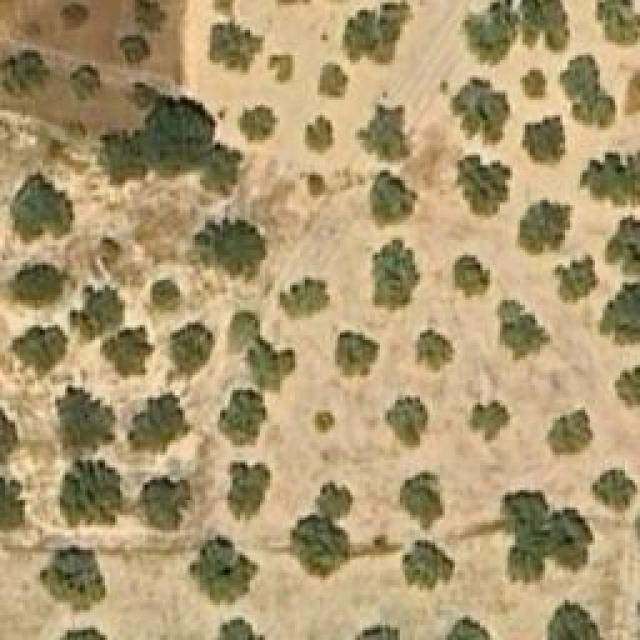Tree: (500, 490, 593, 585), (188, 535, 261, 608), (450, 75, 513, 153), (555, 52, 618, 130), (10, 170, 73, 245), (195, 218, 265, 283), (290, 513, 355, 583), (342, 0, 412, 62), (55, 385, 115, 455), (40, 548, 105, 611), (60, 460, 120, 528), (460, 0, 518, 70), (148, 98, 211, 162), (127, 395, 195, 453), (372, 238, 420, 313), (577, 152, 640, 209), (495, 300, 550, 363), (355, 95, 408, 160), (512, 0, 570, 55), (8, 325, 68, 378), (10, 260, 75, 308), (218, 390, 271, 448), (458, 158, 513, 213), (138, 478, 193, 533), (208, 23, 263, 76), (195, 140, 245, 198), (275, 275, 335, 323), (400, 468, 445, 531), (70, 288, 123, 341), (543, 410, 596, 463), (370, 170, 418, 228), (98, 135, 148, 187), (228, 460, 271, 520), (403, 540, 456, 588), (600, 283, 640, 346), (520, 118, 568, 168), (520, 202, 570, 250), (103, 327, 153, 375), (547, 602, 605, 640), (595, 0, 640, 48), (248, 348, 298, 391), (173, 323, 213, 376), (385, 397, 428, 445), (555, 252, 598, 300), (0, 53, 45, 98), (335, 333, 380, 376), (607, 217, 640, 274), (470, 400, 513, 443), (225, 310, 266, 354), (0, 475, 25, 538), (593, 470, 636, 505), (438, 615, 498, 640), (318, 63, 351, 108), (237, 102, 275, 140), (455, 258, 490, 298), (418, 330, 453, 370), (210, 617, 270, 640), (117, 33, 155, 68), (68, 65, 103, 103), (315, 477, 350, 515), (303, 115, 336, 155), (135, 0, 170, 35), (343, 622, 406, 640), (150, 280, 183, 313), (615, 365, 640, 405), (518, 68, 548, 101), (50, 625, 113, 640), (127, 78, 161, 105), (268, 55, 298, 85), (305, 170, 332, 197), (62, 3, 90, 28), (315, 413, 335, 436)
